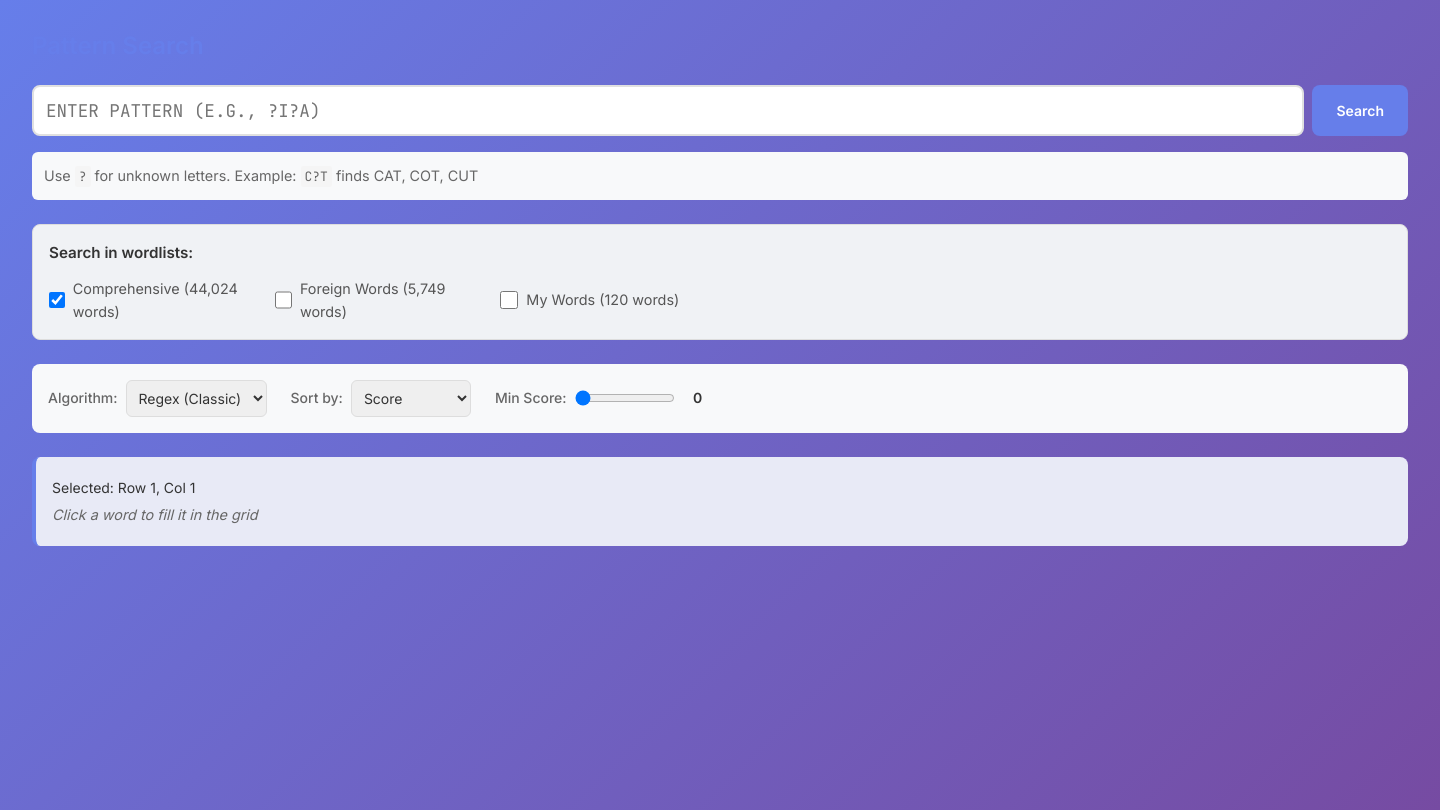
Test: PatternMatcher Component › Pattern Input › shows error for patterns < 3 characters
This screenshot has width=1440, height=810.
In the field with placeholder "Enter pattern (e.g., ?I?A)": (668, 110) [32,85,1304,136], type "C?"
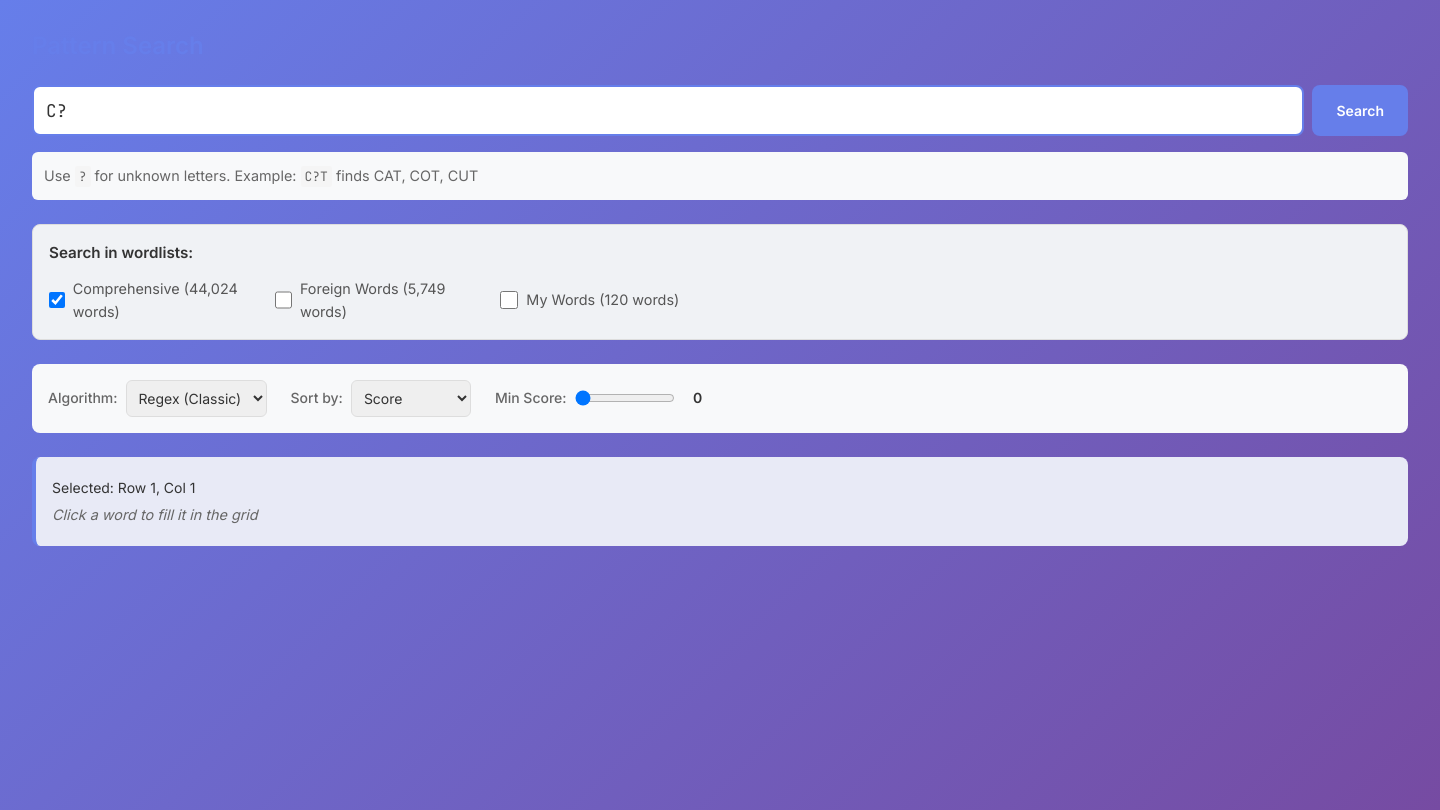
Click the button "Search": (1360, 110) [1312,85,1408,136]
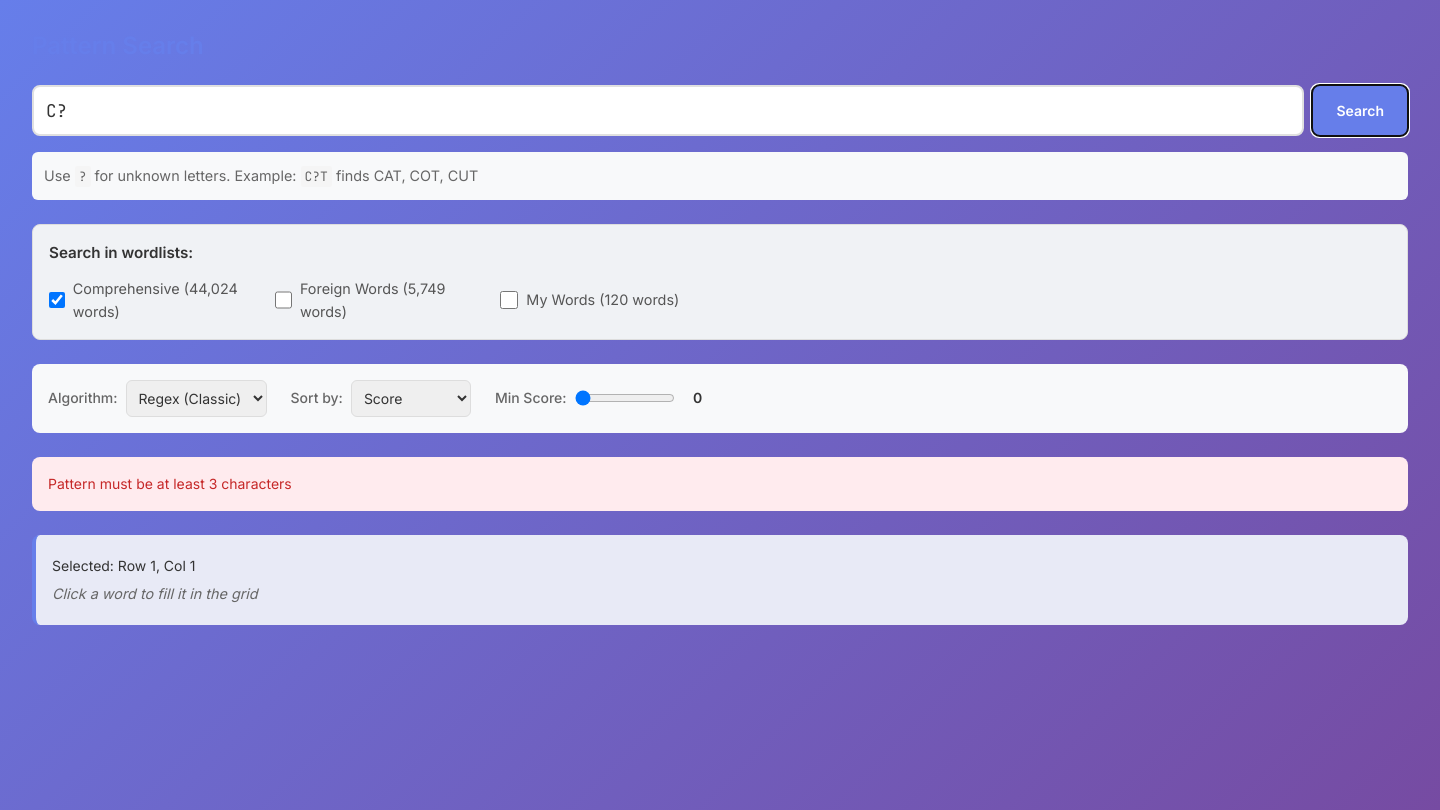
Check: the text "Pattern must be at least 3 characters" is shown, box [32,457,1408,511]
